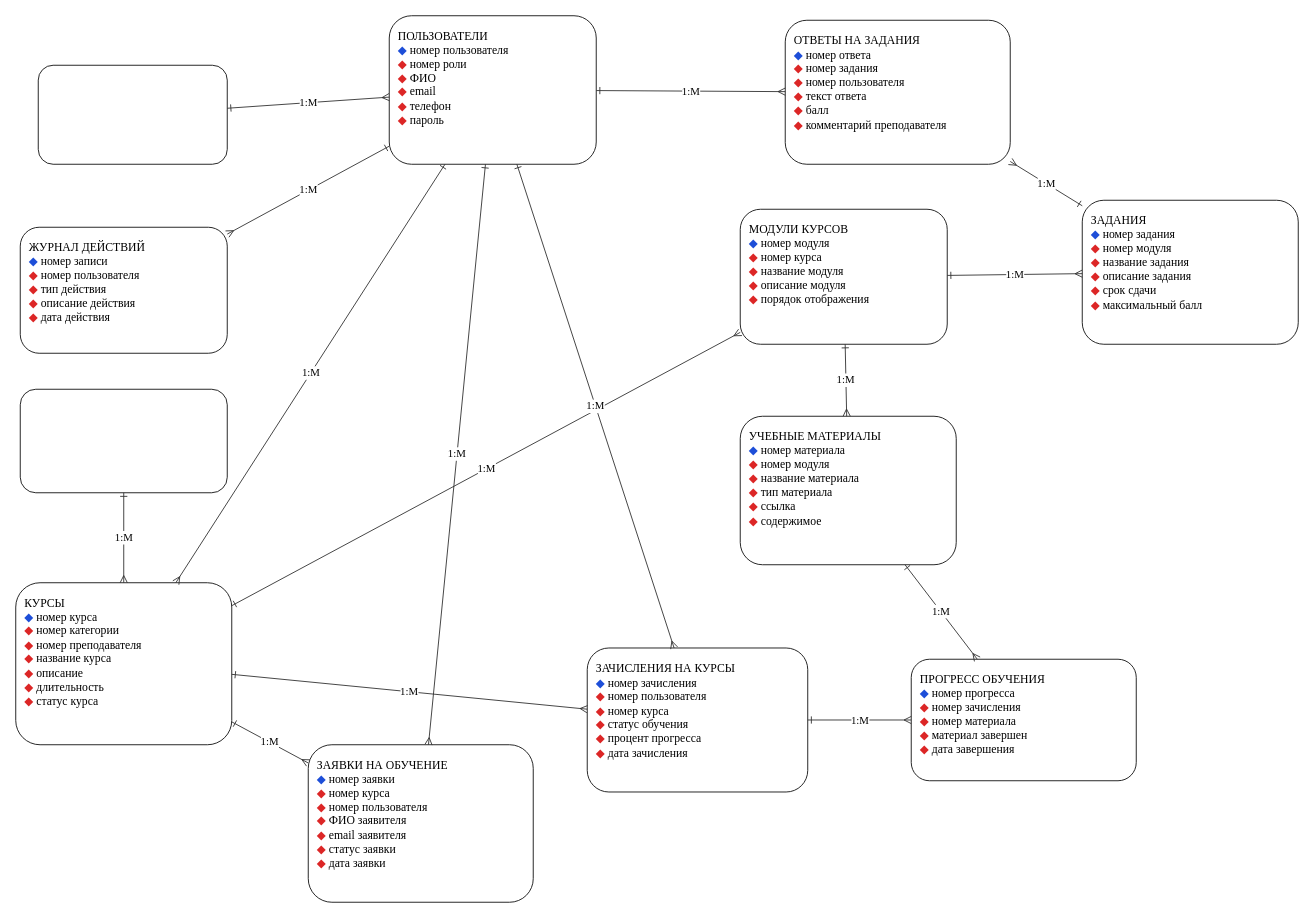
Image size: 1314x918. Some labels were removed from this diagram. Here are the shapes that lost their labels. From the top down, the centre of each, then its label:
At (132,114): "РОЛИ ПОЛЬЗОВАТЕЛЕЙ ◆ номер роли ◆ название роли ◆ описание роли".
At (123,440): "КАТЕГОРИИ КУРСОВ ◆ номер категории ◆ название категории ◆ описание категории".
